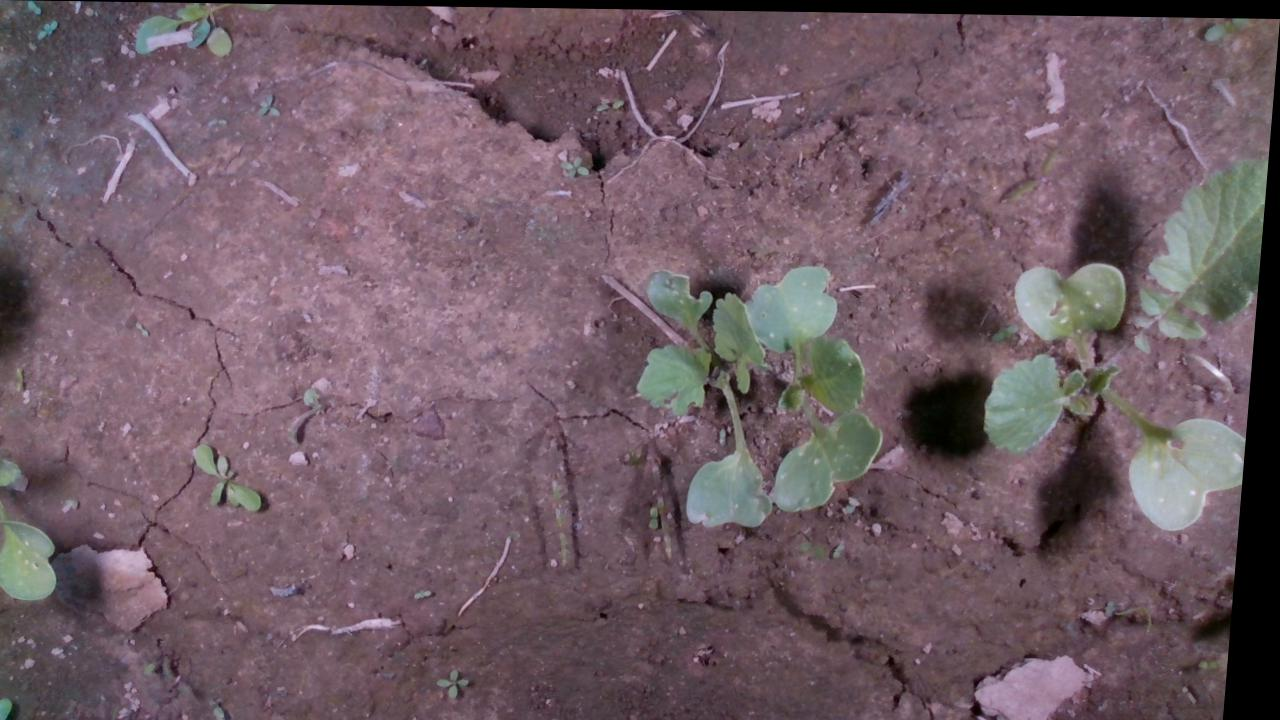weed: (193, 442, 274, 510), (445, 665, 482, 697), (558, 151, 594, 176), (256, 89, 284, 116), (36, 17, 58, 39), (18, 367, 31, 394), (137, 320, 157, 336), (656, 502, 668, 528), (422, 585, 442, 598)
